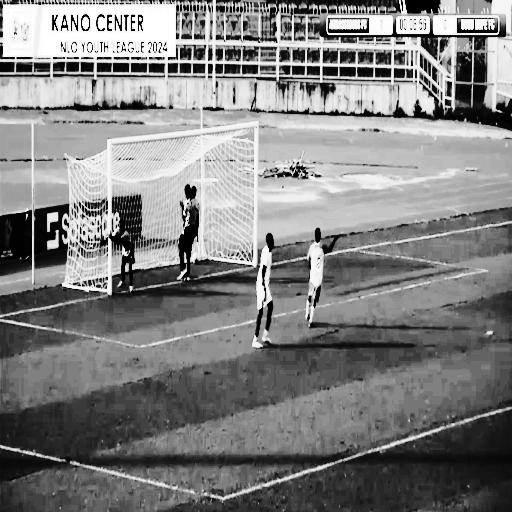ball: (191, 248, 203, 268)
keeper2: (248, 224, 276, 362)
team1: (99, 215, 141, 300), (172, 182, 202, 300)
team2: (300, 222, 332, 334)
